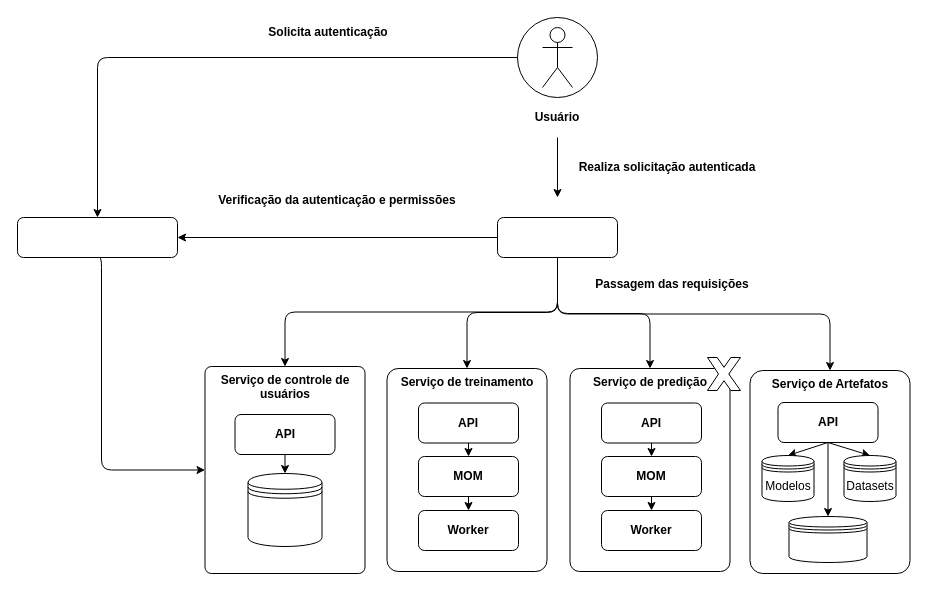
Image size: 928x591. Some labels were removed from this diagram. Each missing label, with the centre of its shape:
"API Gateway" goes at [557,237].
"BD Relacional" goes at [284,509].
"IAM Gateway" goes at [97,237].
"Metadados" goes at [827,539].
